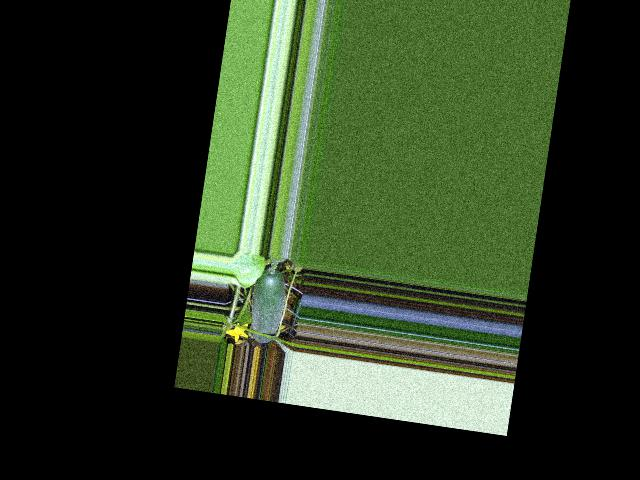cucumber: (246, 264, 289, 344)
